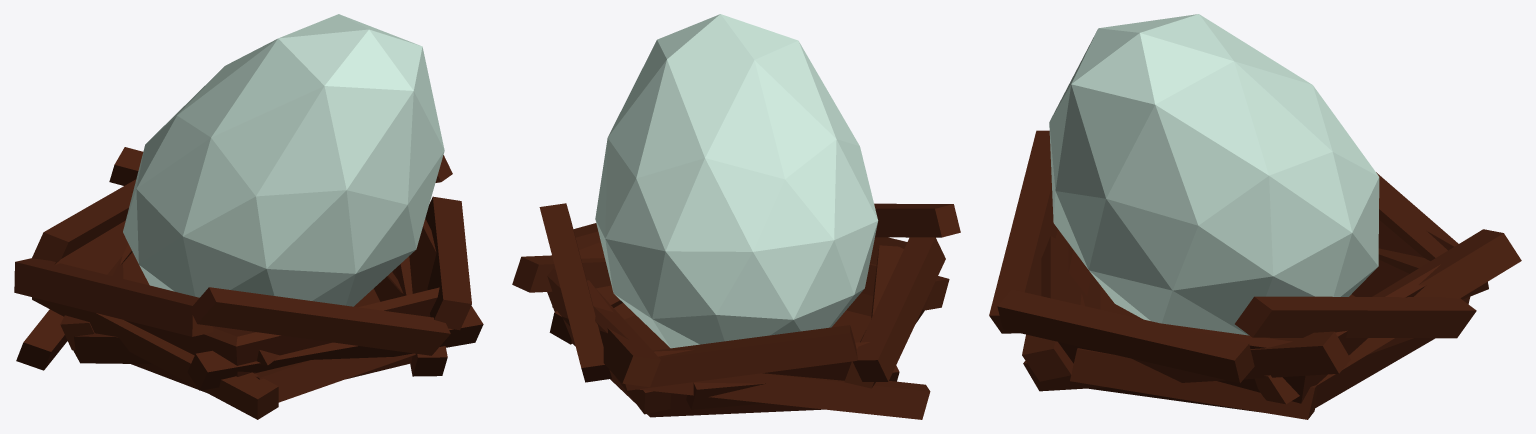
The model's file is EggNest_v1.fbx.
3 renders of one model, left to right at view 1: azimuth 30°, elevation 25°; view 2: azimuth 150°, elevation 25°; view 3: azimuth 270°, elevation 25°, orthographic. The views are drawn at different scales.
Visible parts, largest first — view 1: EggBase, Part2, Part4, Fiber.008, Nest, Fiber.011, Part1, Part3, Fiber.010, Fiber.002, Fiber.007, Fiber.014 (+7 smaller); view 2: Part6, EggBase, Part3, Fiber.014, Part1, Fiber.013, Nest, Fiber.011, Fiber.005, Fiber.004, Fiber.008, Fiber.001 (+8 smaller); view 3: Part5, EggBase, Part6, Part4, Fiber.002, Nest, Fiber.005, Fiber.004, Fiber.003, Fiber.008, Part1, Fiber.001 (+3 smaller).
Boxes of the visible parts, box(x1,y1,x2,y2) form: EggBase: box(123, 116, 444, 306); Part2: box(183, 86, 346, 268); Part4: box(324, 29, 444, 204); Fiber.008: box(190, 287, 450, 355); Nest: box(54, 190, 439, 392); Fiber.011: box(14, 258, 213, 336); Part1: box(211, 14, 419, 137); Part3: box(136, 39, 277, 235); Fiber.010: box(32, 297, 278, 419); Fiber.002: box(425, 196, 471, 330); Fiber.007: box(187, 306, 483, 390); Fiber.014: box(32, 179, 136, 261); Part6: box(605, 59, 784, 251); EggBase: box(595, 138, 877, 348); Part3: box(754, 60, 877, 239); Fiber.014: box(625, 325, 857, 390); Part1: box(657, 14, 835, 138); Fiber.013: box(637, 373, 930, 419); Nest: box(547, 237, 907, 417); Fiber.011: box(852, 237, 945, 381); Fiber.005: box(539, 203, 611, 382); Fiber.004: box(552, 288, 660, 387); Fiber.008: box(874, 203, 960, 237); Fiber.001: box(512, 255, 611, 292); Part5: box(1106, 61, 1273, 290); EggBase: box(1049, 125, 1379, 335); Part6: box(1199, 14, 1378, 232); Part4: box(1049, 28, 1154, 198); Fiber.002: box(997, 289, 1254, 383); Nest: box(1041, 220, 1454, 412); Fiber.005: box(1235, 296, 1476, 338); Fiber.004: box(1255, 229, 1521, 404); Fiber.003: box(1070, 348, 1317, 419); Fiber.008: box(989, 130, 1057, 333); Part1: box(1099, 14, 1233, 104); Fiber.001: box(1023, 331, 1350, 391).
Bounding box in the file's own units: 322 × 233 × 327.
